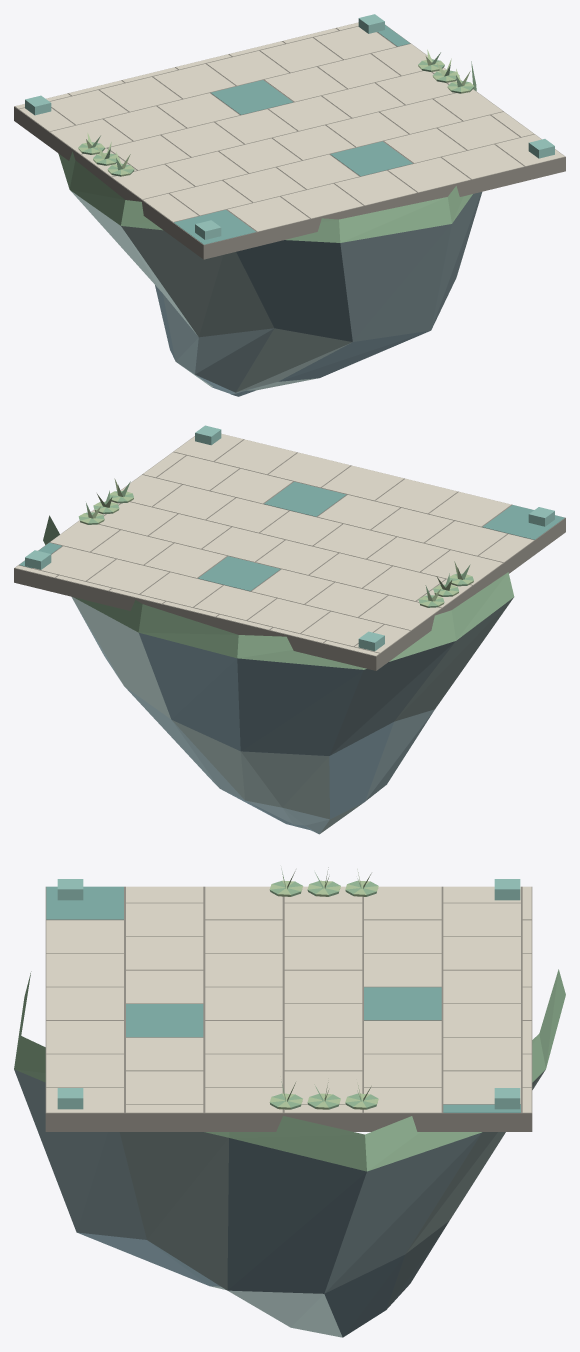
File: FloatingIsland24.glb
3 renders of one model, top to bottom at view 1: azimuth 30°, elevation 25°; view 2: azimuth 150°, elevation 25°; view 3: azimuth 270°, elevation 25°, orthographic. The views are drawn at different scales.
Parts seen in each view (by area): view 1: FloatingIsland24; view 2: FloatingIsland24; view 3: FloatingIsland24.
Part boxes in pixels (<box>): FloatingIsland24: <box>14,14,565,396</box>; FloatingIsland24: <box>14,425,565,834</box>; FloatingIsland24: <box>14,867,565,1337</box>.
Size of the model in its own units: 8.1 by 5.38 by 7.3.
